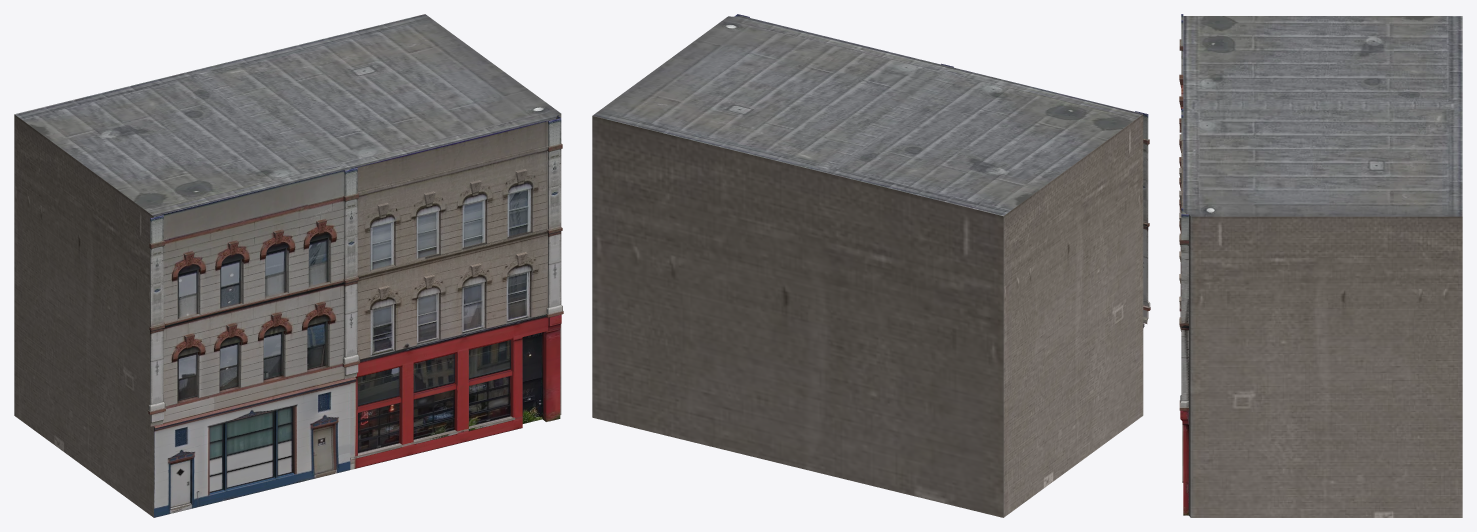
Rendered from bank_annex.glb.
3 renders of one model, left to right at view 1: azimuth 30°, elevation 25°; view 2: azimuth 150°, elevation 25°; view 3: azimuth 270°, elevation 25°, orthographic.
Visible parts, largest first — view 1: Object_12; view 2: Object_12; view 3: Object_12.
Boxes of the visible parts, box(x1,y1,x2,y2) form: Object_12: box(14, 14, 563, 517); Object_12: box(592, 14, 1150, 517); Object_12: box(1179, 14, 1462, 517).
Size of the model in its own units: 17.36 by 12 by 10.23.
Materials: 1 (1 with a texture image).
